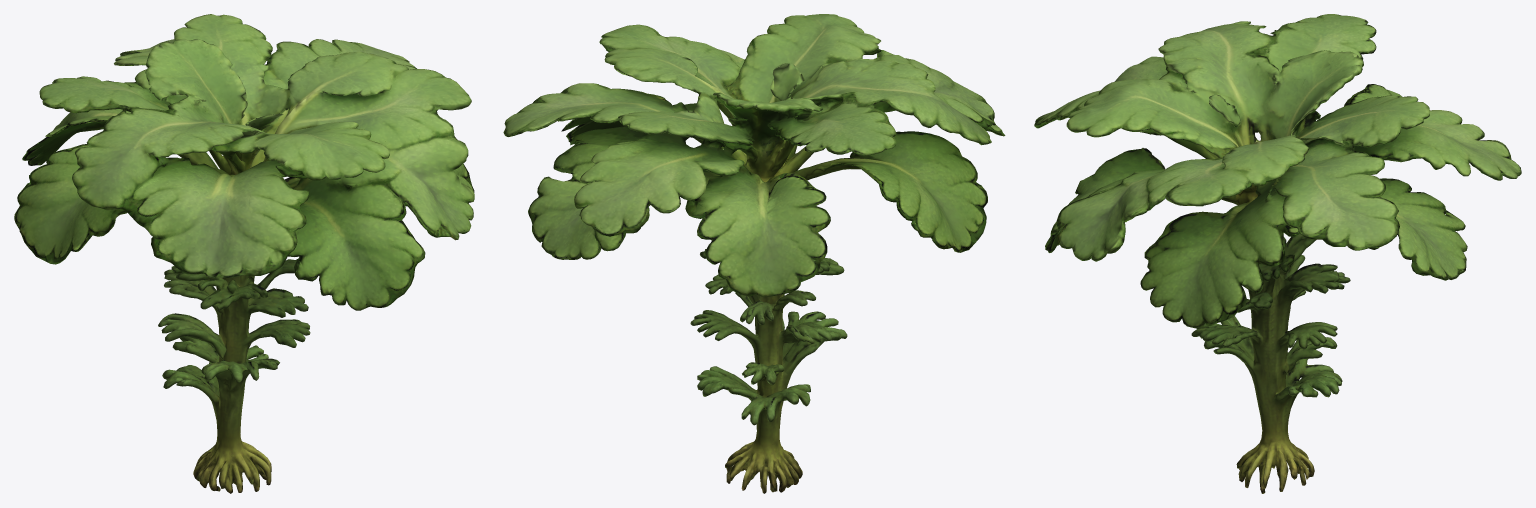
3 views of the same model, side by side, from view 1: azimuth 30°, elevation 25°; view 2: azimuth 150°, elevation 25°; view 3: azimuth 270°, elevation 25° (orthographic).
Parts seen in each view (by area): view 1: geometry_0; view 2: geometry_0; view 3: geometry_0.
Part boxes in pixels (x1=…): geometry_0: x1=14, y1=14, x2=474, y2=493; geometry_0: x1=503, y1=14, x2=1005, y2=493; geometry_0: x1=1034, y1=14, x2=1521, y2=493.
Size of the model in its own units: 0.156 by 0.1481 by 0.16.
1 material, 1 textured.
